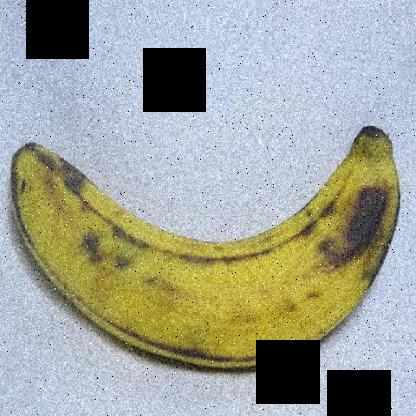ripe: (1, 112, 408, 381)
